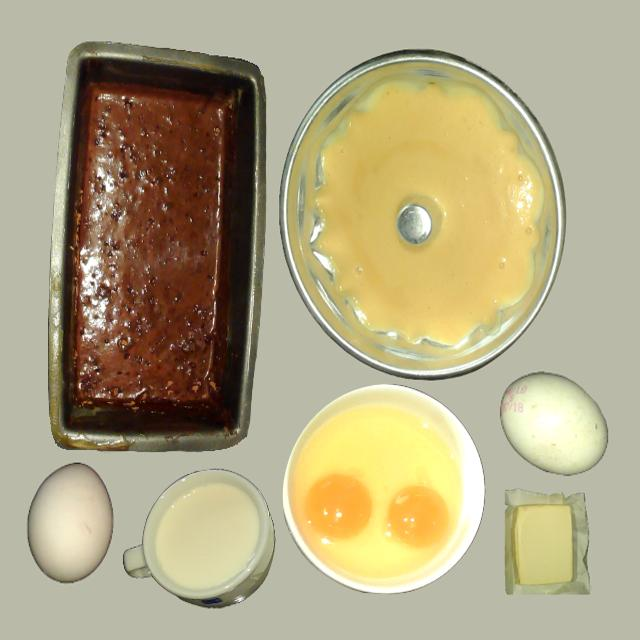Egg: (305, 474, 373, 540), (386, 486, 448, 548)
Milk: (152, 482, 260, 591)
